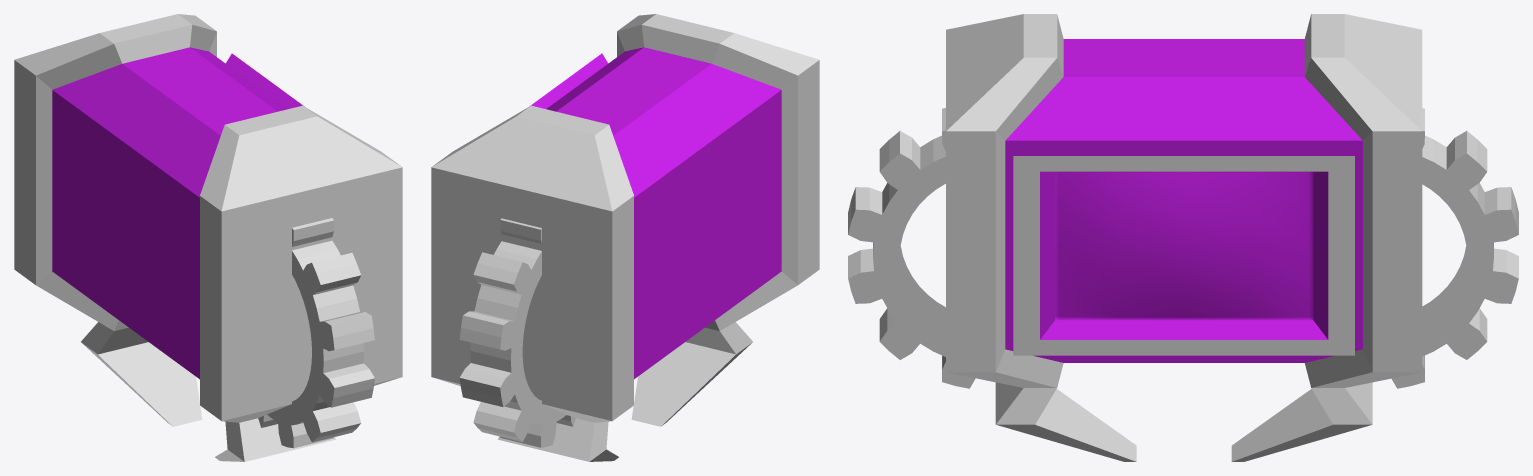
The model's file is scoreCounter.fbx.
3 views of the same model, side by side, from view 1: azimuth 30°, elevation 25°; view 2: azimuth 150°, elevation 25°; view 3: azimuth 270°, elevation 25° (orthographic). The views are drawn at different scales.
Parts seen in each view (by area): view 1: Cube, Cube.001; view 2: Cube, Cube.002; view 3: Cube, Cube.001, Cube.002.
Part boxes in pixels (left/top/right/bottom): Cube: left=14, top=14, right=402, bottom=461; Cube.001: left=258, top=218, right=374, bottom=448; Cube: left=431, top=14, right=819, bottom=461; Cube.002: left=459, top=218, right=575, bottom=447; Cube: left=946, top=14, right=1422, bottom=461; Cube.001: left=848, top=107, right=975, bottom=388; Cube.002: left=1392, top=108, right=1518, bottom=388.
Bounding box in the file's own units: 105 × 194 × 282.
